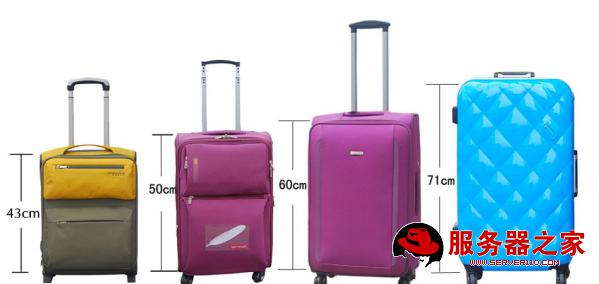luggage: (174, 58, 273, 284), (40, 80, 139, 284)
